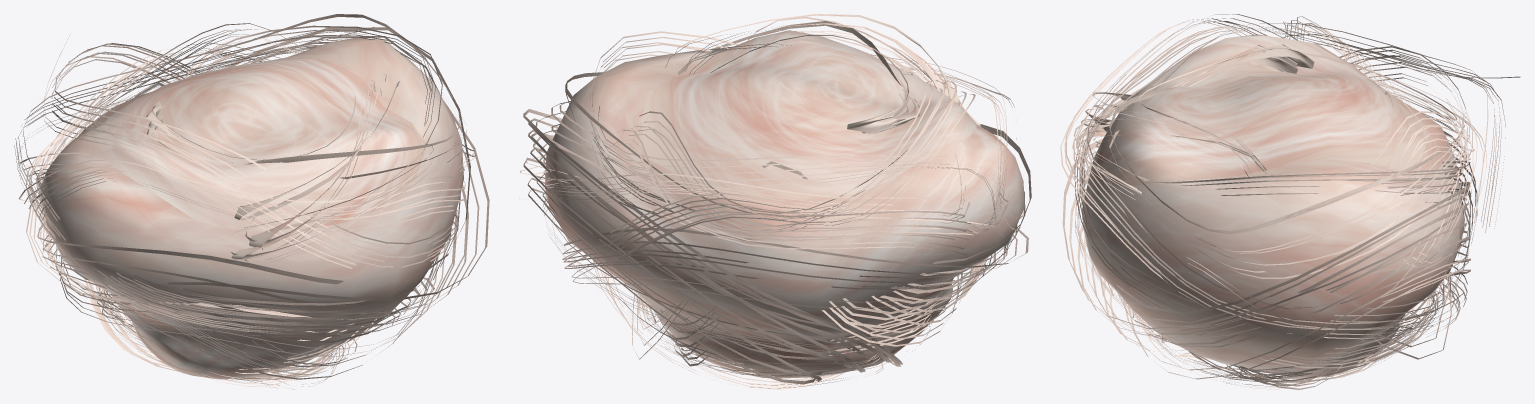
Rendered from pink.fbx.
The picture shows the model from 3 angles, left to right: view 1: azimuth 30°, elevation 25°; view 2: azimuth 150°, elevation 25°; view 3: azimuth 270°, elevation 25°; orthographic projection. The views are drawn at different scales.
Visible parts, largest first — view 1: pPlane10; view 2: pPlane10; view 3: pPlane10.
Part boxes in pixels (<box>): pPlane10: <box>14,14,489,389</box>; pPlane10: <box>519,14,1031,389</box>; pPlane10: <box>1060,14,1520,389</box>.
Bounding box in the file's own units: 25.74 × 15.75 × 23.18.
